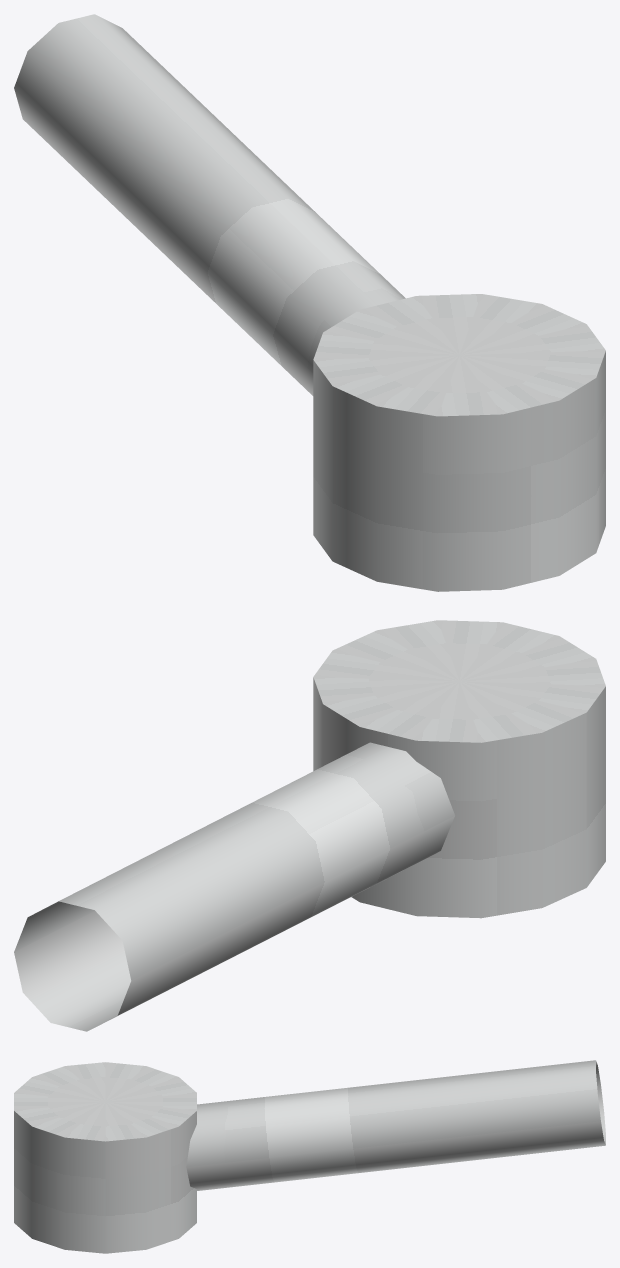
Rendered from trusssignalarm_level10_c1_thin.obj.
The picture shows the model from 3 angles, top to bottom: view 1: azimuth 30°, elevation 25°; view 2: azimuth 150°, elevation 25°; view 3: azimuth 270°, elevation 25°; orthographic projection. The views are drawn at different scales.
Visible parts, largest first — view 1: trusssignalarm_level10_c1_thin; view 2: trusssignalarm_level10_c1_thin; view 3: trusssignalarm_level10_c1_thin.
Part boxes in pixels (bbox=[...]): trusssignalarm_level10_c1_thin: bbox=[14, 14, 605, 591]; trusssignalarm_level10_c1_thin: bbox=[14, 620, 605, 1031]; trusssignalarm_level10_c1_thin: bbox=[14, 1060, 605, 1253].
Size of the model in its own units: 0.5688 by 0.4952 by 1.79.
